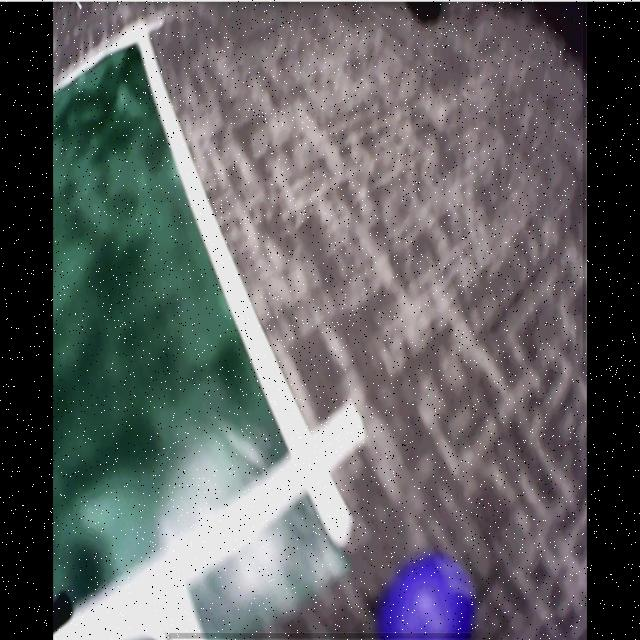ball: (379, 555, 478, 640)
